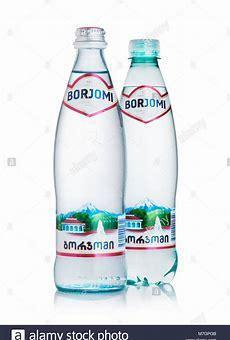bottle: (56, 22, 126, 294), (126, 35, 178, 287)
